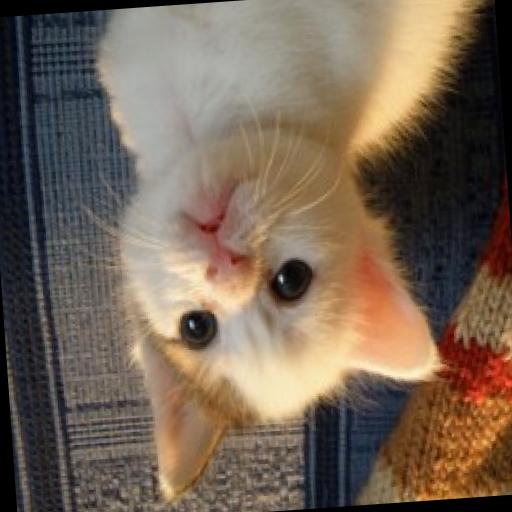cat: (60, 0, 512, 499)
